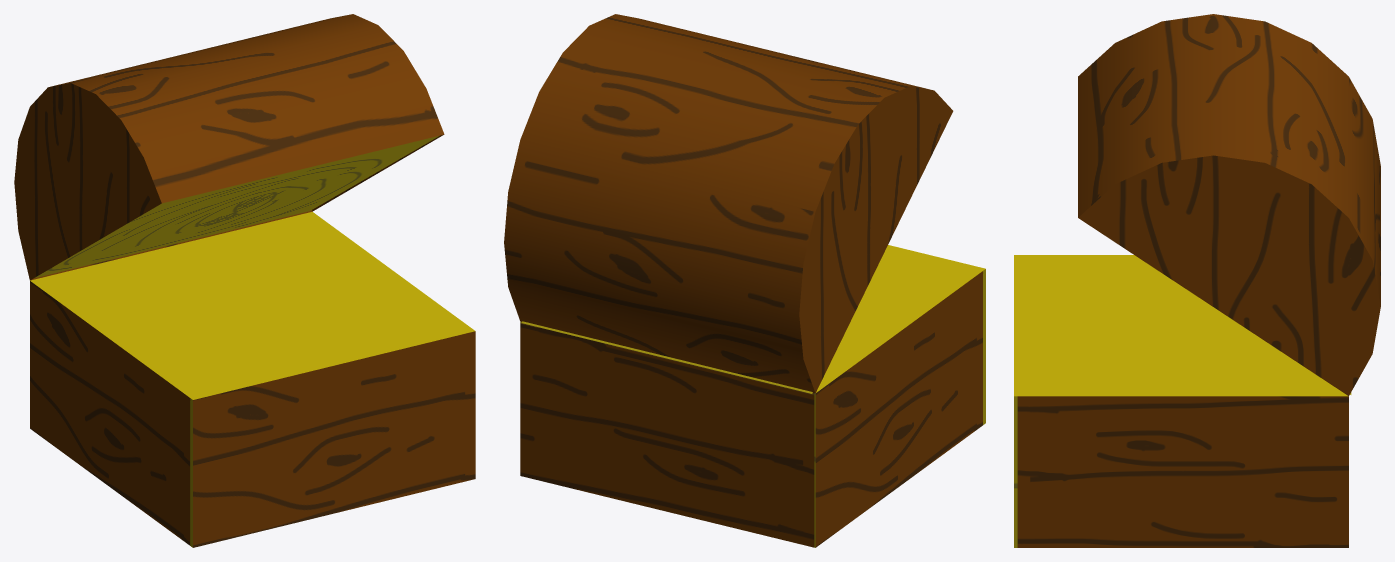
The model's file is chest.fbx.
3 renders of one model, left to right at view 1: azimuth 30°, elevation 25°; view 2: azimuth 150°, elevation 25°; view 3: azimuth 270°, elevation 25°, orthographic. The views are drawn at different scales.
Visible parts, largest first — view 1: pPlane3; view 2: pPlane3; view 3: pPlane3.
Part boxes in pixels (<box>): pPlane3: <box>14,14,475,547</box>; pPlane3: <box>504,14,985,547</box>; pPlane3: <box>1014,14,1380,547</box>.
Bounding box in the file's own units: 2 × 2.59 × 2.19.
